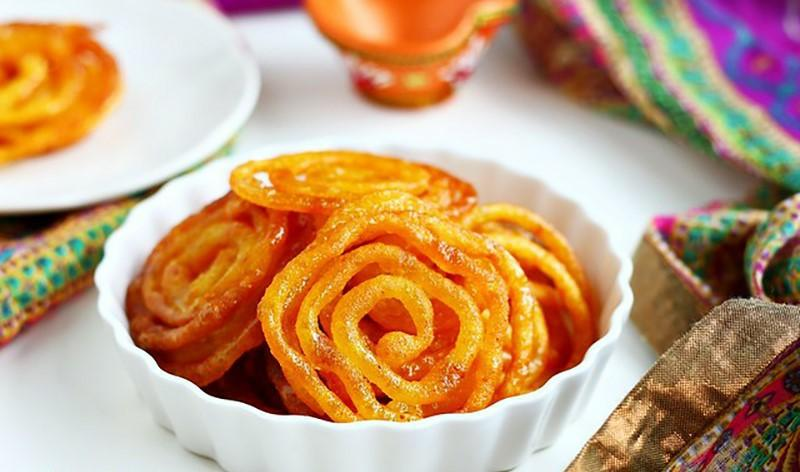Jalebi: (128, 147, 599, 423)
